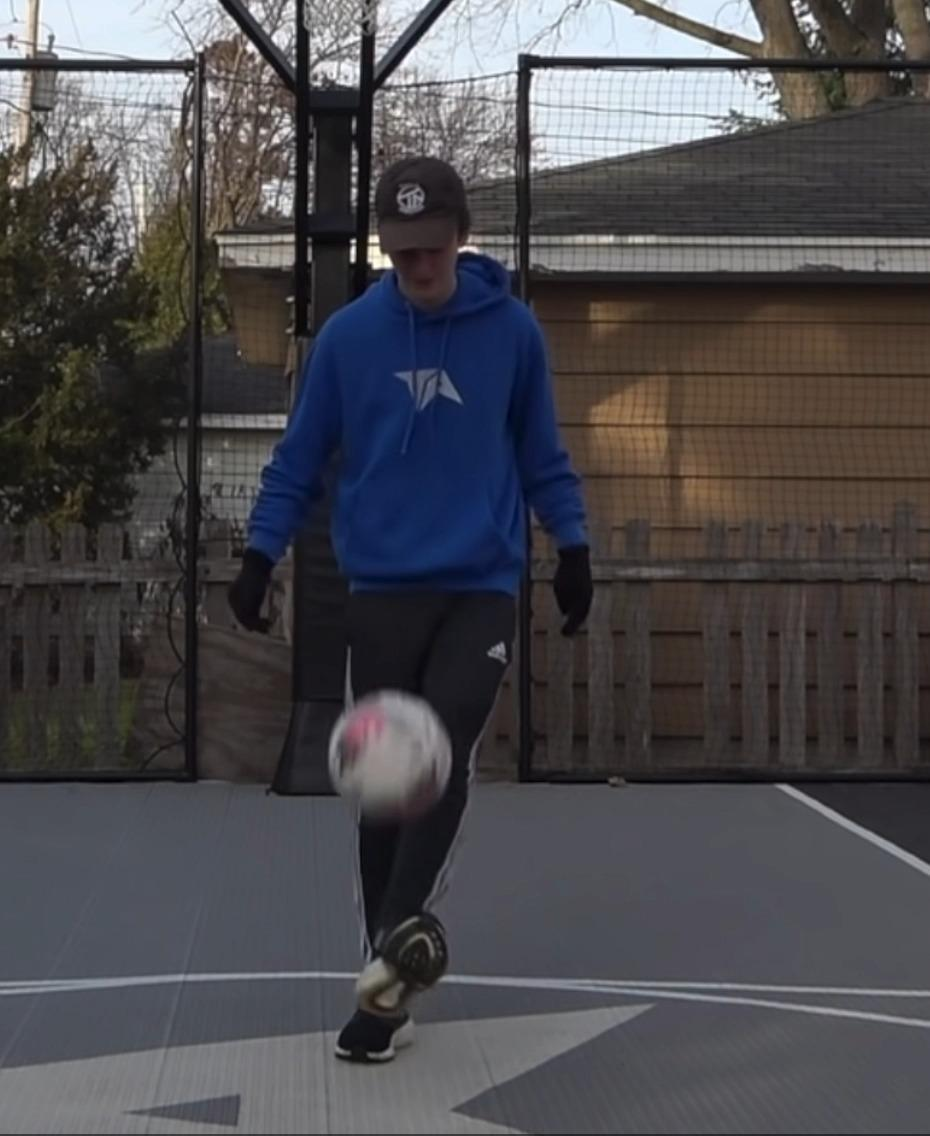ball: (325, 694, 453, 818)
foot: (354, 910, 448, 1019), (332, 1003, 414, 1063)
person: (231, 158, 593, 1065)
